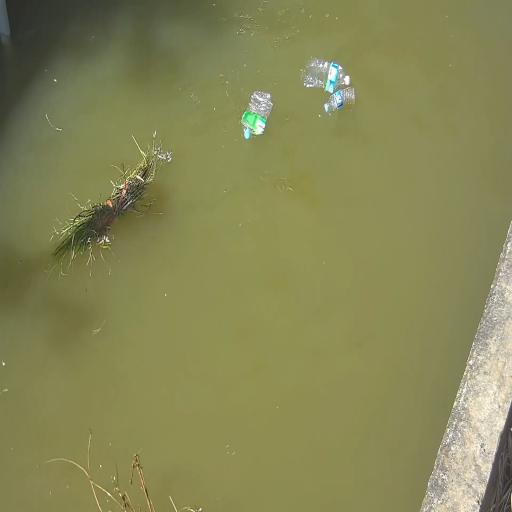plastic: (302, 58, 349, 93), (242, 92, 273, 139), (324, 87, 354, 114)
twig: (53, 134, 172, 266), (45, 429, 142, 512), (129, 452, 155, 512)
